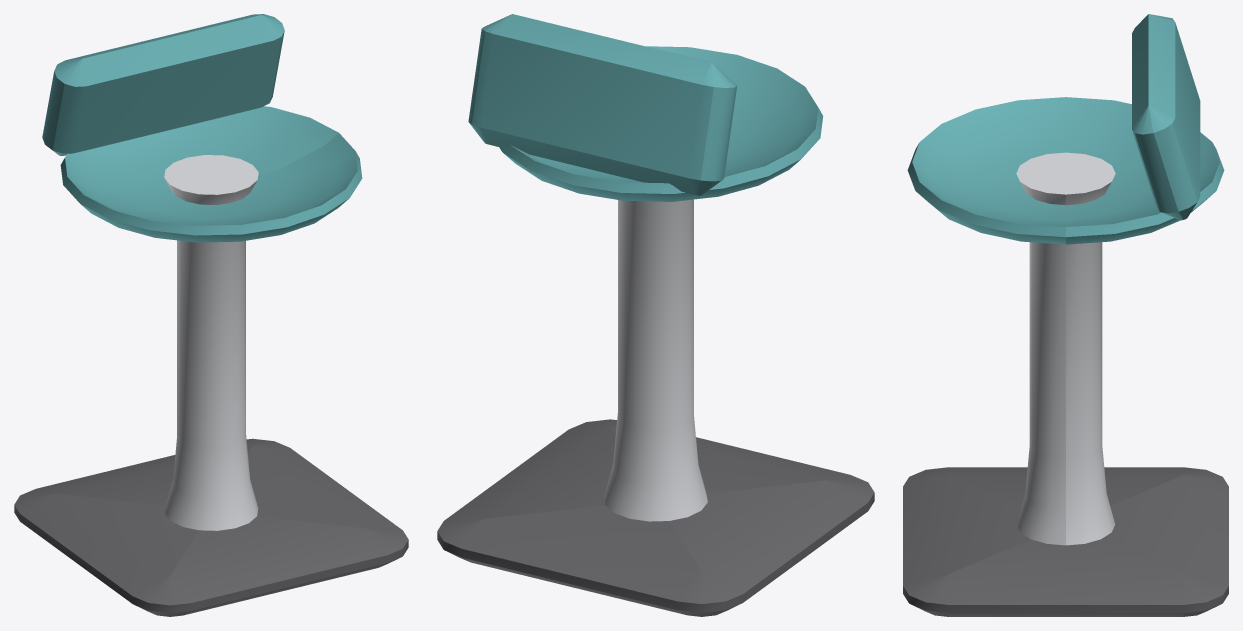
Rendered from fast-food-and-drive-thru-moulded-stool-22ee2686__16181.glb.
The picture shows the model from 3 angles, left to right: view 1: azimuth 30°, elevation 25°; view 2: azimuth 150°, elevation 25°; view 3: azimuth 270°, elevation 25°; orthographic projection. The views are drawn at different scales.
Parts seen in each view (by area): view 1: moulded-stool; view 2: moulded-stool; view 3: moulded-stool.
Part boxes in pixels (x1,y1,x2,y2): moulded-stool: (14,14,408,616); moulded-stool: (437,14,874,616); moulded-stool: (903,14,1228,616).
Bounding box in the file's own units: 0.36 × 0.6047 × 0.36.
